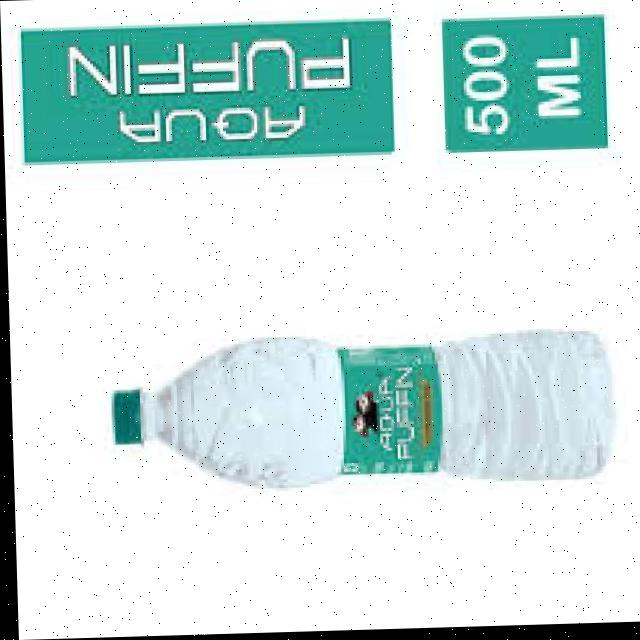bottle: (73, 277, 625, 528)
